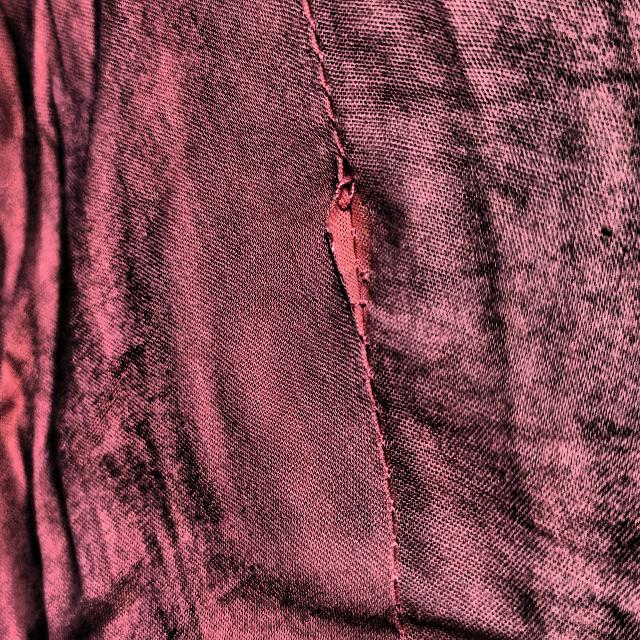seam: (303, 121, 401, 371)
